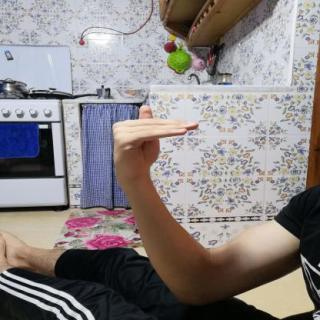KHAA: (101, 98, 208, 180)
